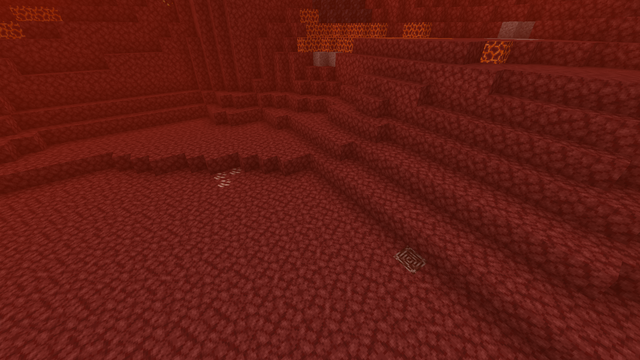debris: (392, 246, 431, 275)
quartz: (211, 162, 245, 189)
